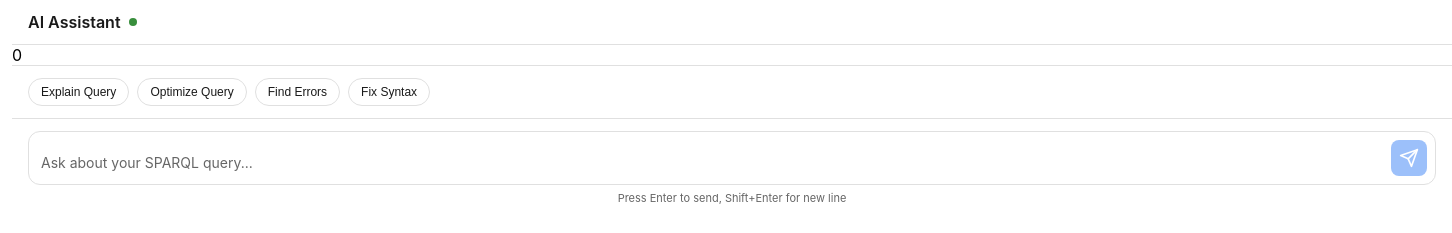
it: AIPanel - configured › waits for approval on runSparqlQuery, then continues after approve
The image size is (1452, 233).
In the text box with placeholder "Ask about your SPARQL query...": (712, 164) [41,152,1383,176], type "run it"
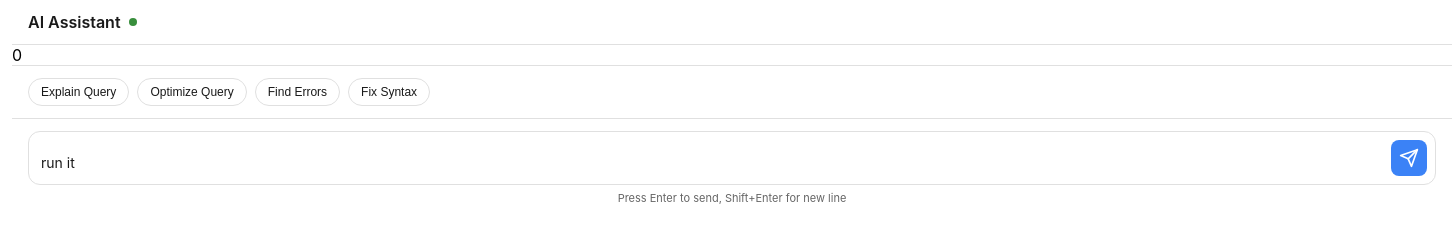
Click the button with class "send-button": click(1409, 158) [1391,140,1427,176]
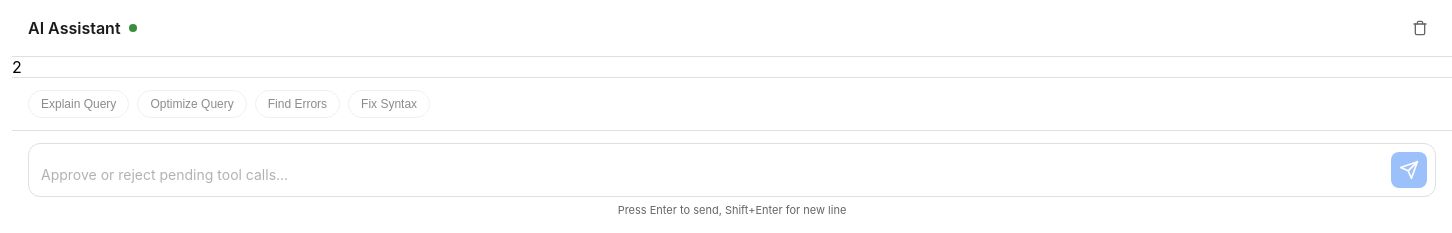
Expected: the text box with placeholder "Approve or reject pending tool calls..." is disabled, [41,164,1383,188]
